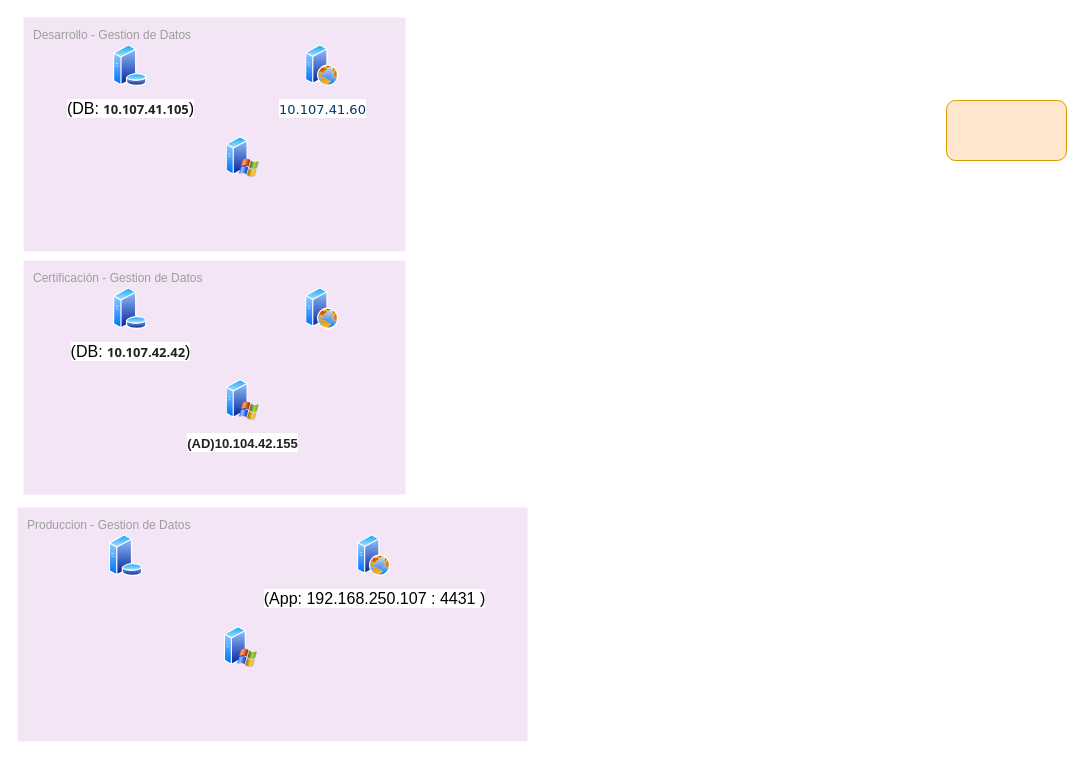
The diagram is 1084 pixels wide and 758 high, and some of its shapes have lost their labels. Each missing label, with the centre of its shape:
(AD): the point at 240,646
(AD)10.107.41.155: the point at 242,156
(App: 10.107.42.30): the point at 321,308
(DB: 192.168.250.109): the point at 125,555
